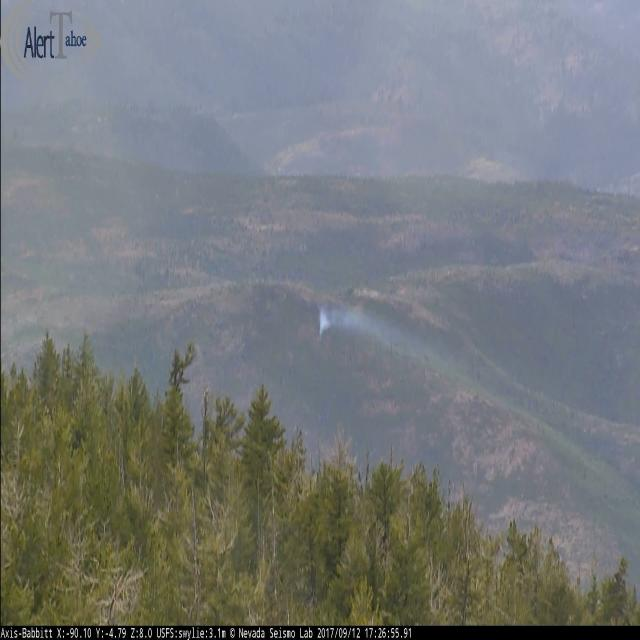smoke: (320, 307, 369, 341)
